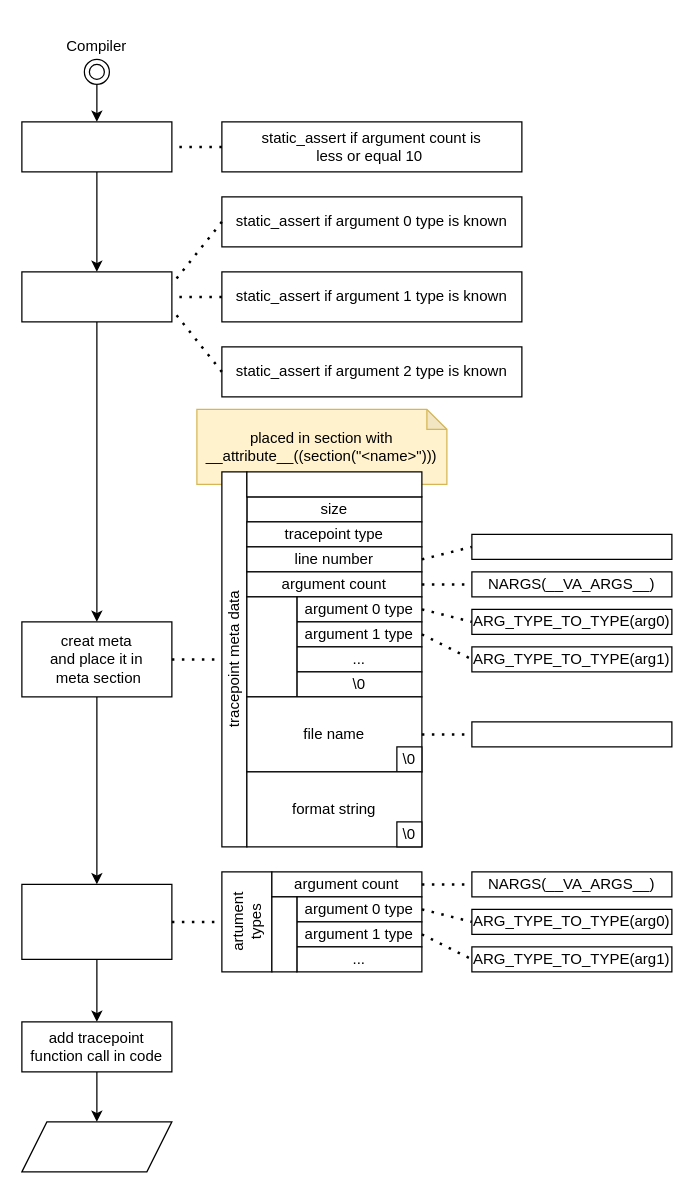
The diagram is 694 pixels wide and 1194 high, and some of its shapes have lost their labels. The shapes that lost their labels are listed below. From the top down, each one's centre as x and y in pixels, then its label:
point (96, 146): check argument count
point (96, 296): check if argument types known
point (334, 484): maigc
point (571, 546): __LINE__
point (271, 646): argument type array
point (571, 734): __FILE__
point (96, 921): creat arument type information for runtime
point (284, 934): type array
point (96, 1146): compilation done
